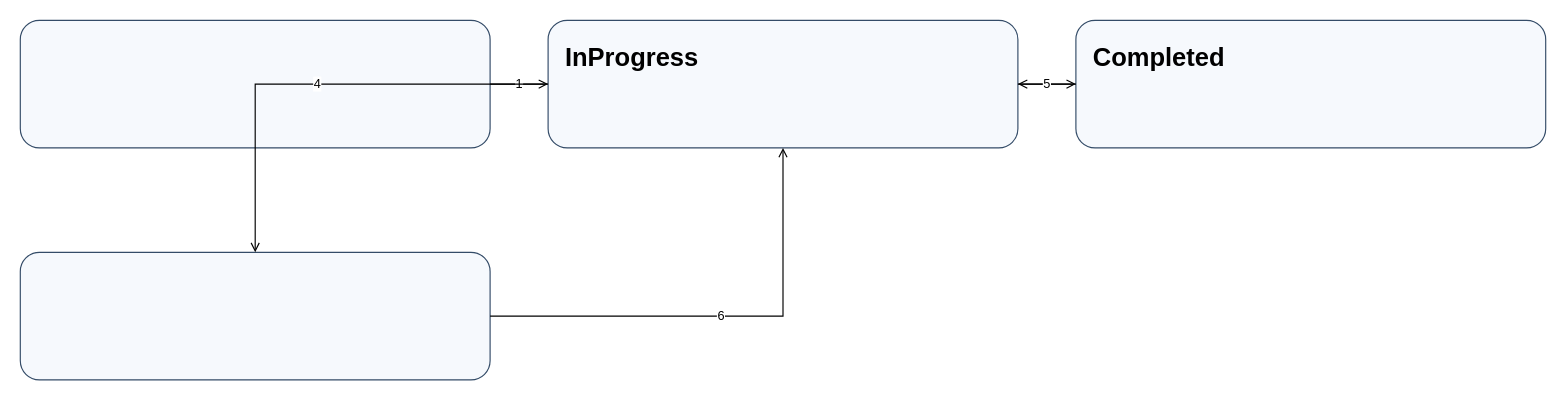
Some shapes in this 1566 by 400 pixel diagram are drawn without their labels. The shapes that lost their labels are listed below. From the top down, each one's box as (x1, y1, x2, y2) in pixels, then its label:
(19, 19, 490, 148): NotStarted
(19, 251, 490, 380): Skipped
